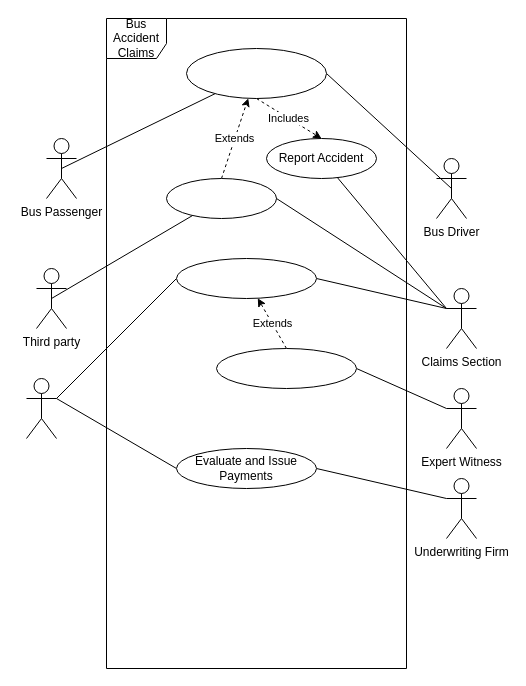
The diagram is 526 pixels wide and 686 high, and some of its shapes have lost their labels. Each missing label, with the centre of its shape:
"Accident Occurance" goes at point 256,73.
"Assess claims made" goes at point 246,278.
"Assess Injuries" goes at point 286,368.
"Assess Third party damage" goes at point 221,198.
"Assessor" goes at point 41,408.
